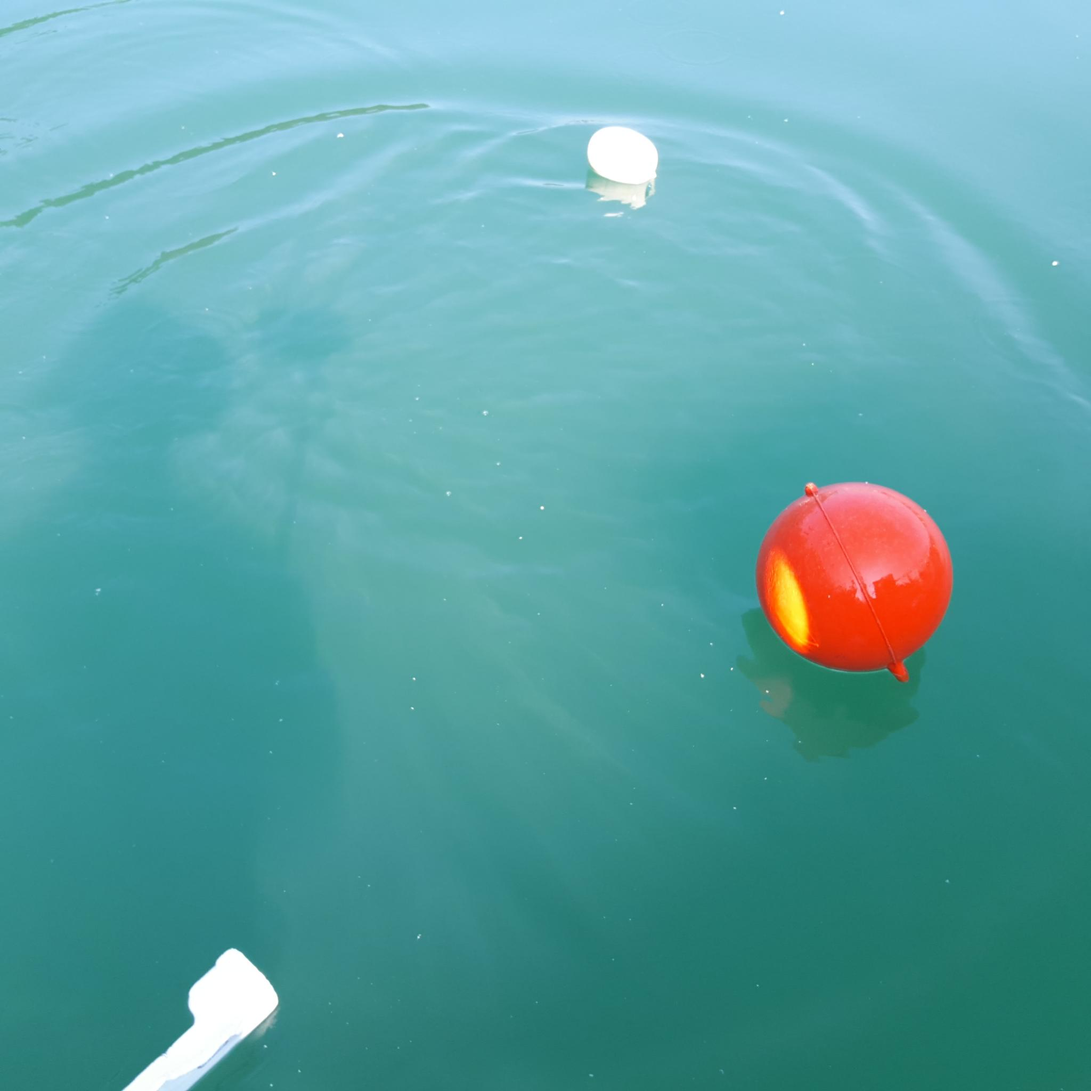sampah_terapung: (757, 482, 954, 683), (120, 948, 280, 1091), (588, 127, 659, 185)
